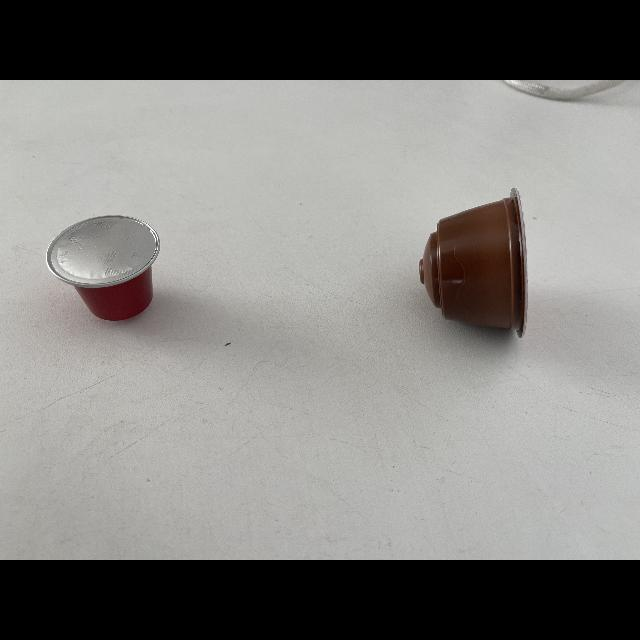intact_capsule: (392, 180, 542, 352), (40, 200, 180, 324)
